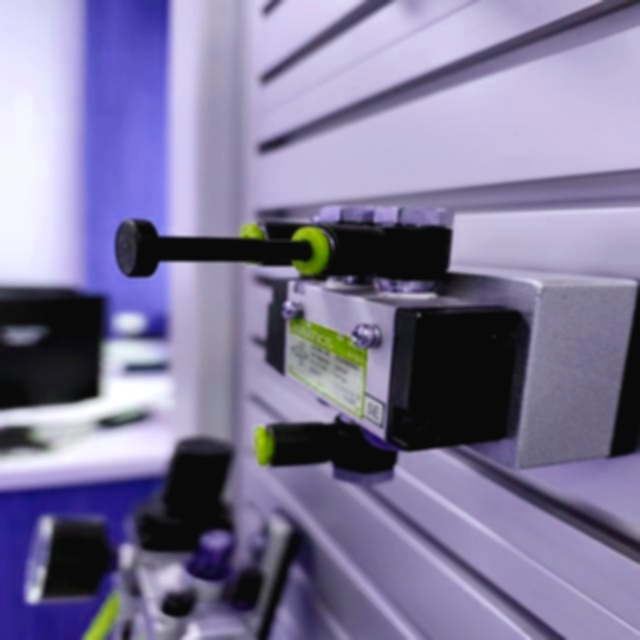5by2 DCV: (104, 188, 640, 496)
